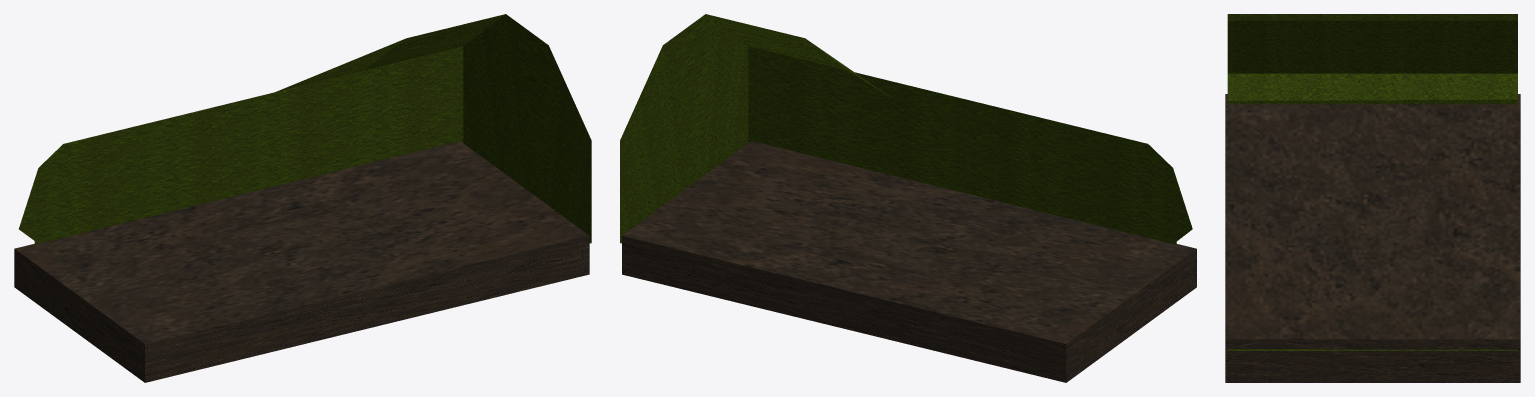
Rendered from ground1.fbx.
The picture shows the model from 3 angles, left to right: view 1: azimuth 30°, elevation 25°; view 2: azimuth 150°, elevation 25°; view 3: azimuth 270°, elevation 25°; orthographic projection. The views are drawn at different scales.
Visible parts, largest first — view 1: Cube.001, Cube; view 2: Cube.001, Cube; view 3: Cube.001, Cube.
Part boxes in pixels (x1,y1,x2,y2): Cube.001: (14, 141, 589, 382); Cube: (19, 14, 591, 281); Cube.001: (622, 141, 1196, 382); Cube: (620, 14, 1192, 330); Cube.001: (1225, 94, 1520, 382); Cube: (1227, 14, 1517, 350).
Bounding box in the file's own units: 1208 × 507 × 611.
